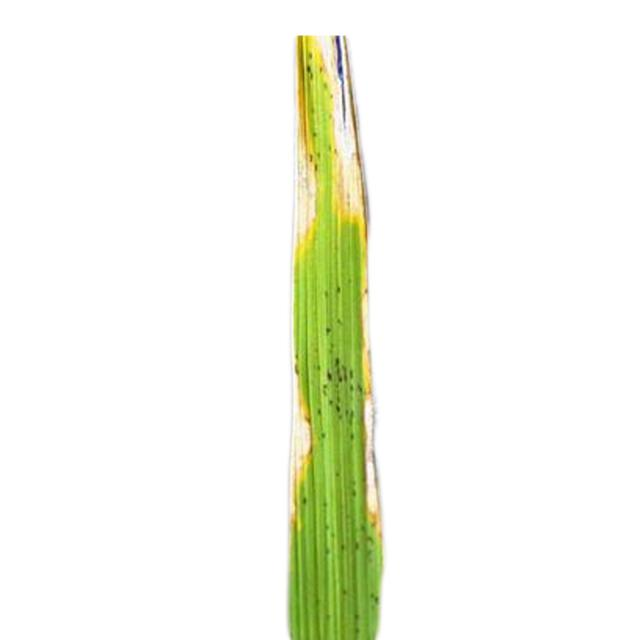Leaf scald: (210, 23, 468, 640)
